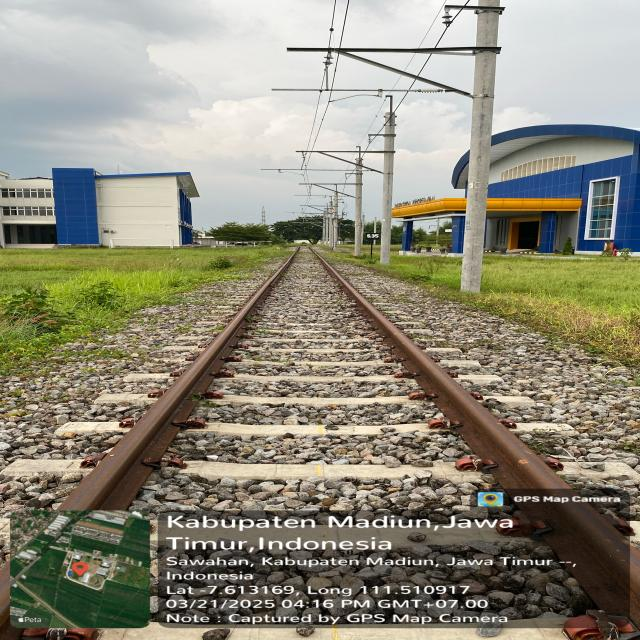rail-detection: (320, 258, 640, 612), (60, 252, 297, 510)
